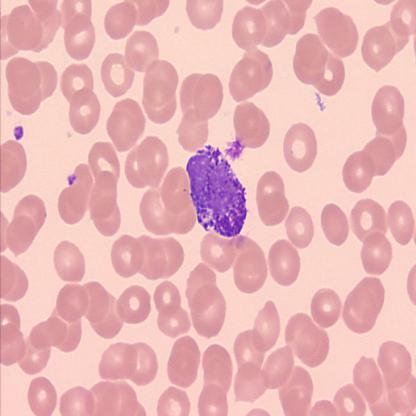Basophil: (183, 142, 249, 241)
